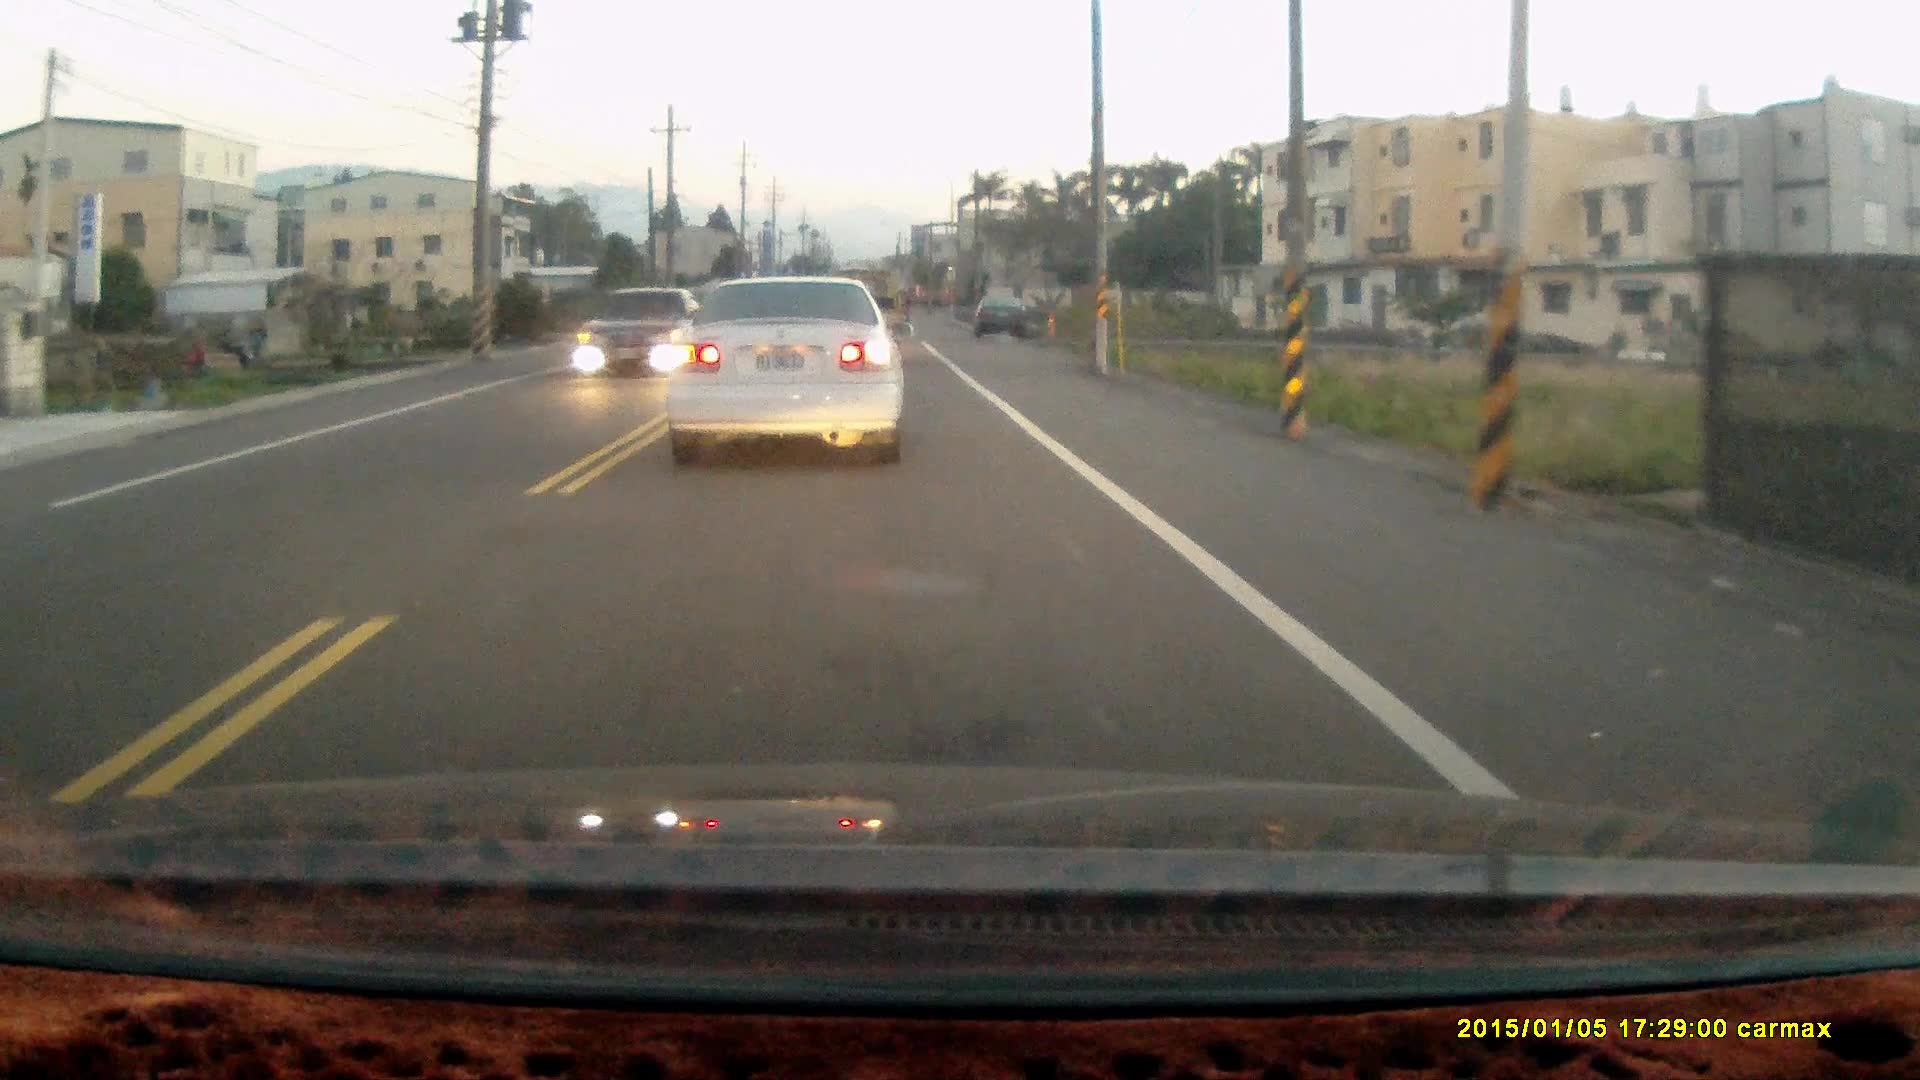pedestrian: (248, 319, 268, 368), (184, 337, 206, 382)
vehicle: (665, 276, 908, 476), (578, 290, 702, 381), (976, 296, 1041, 344)
